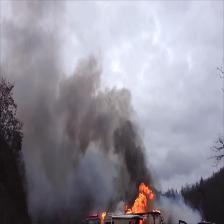fire: (118, 182, 156, 214)
